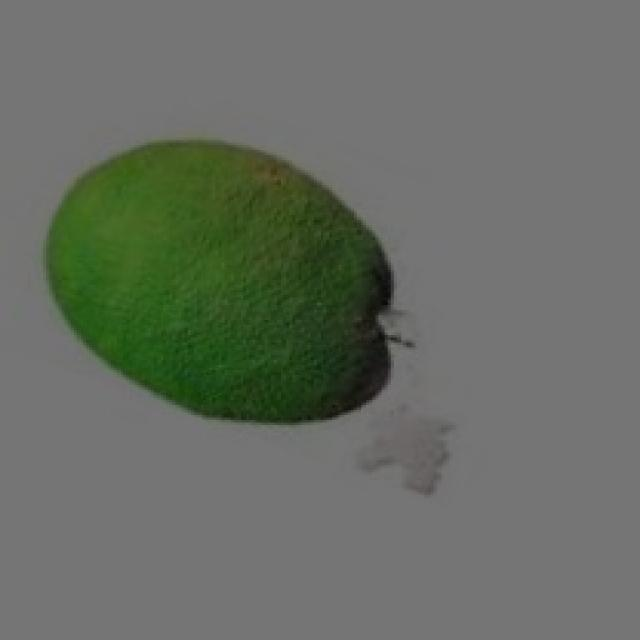Fruit: (12, 110, 425, 448)
